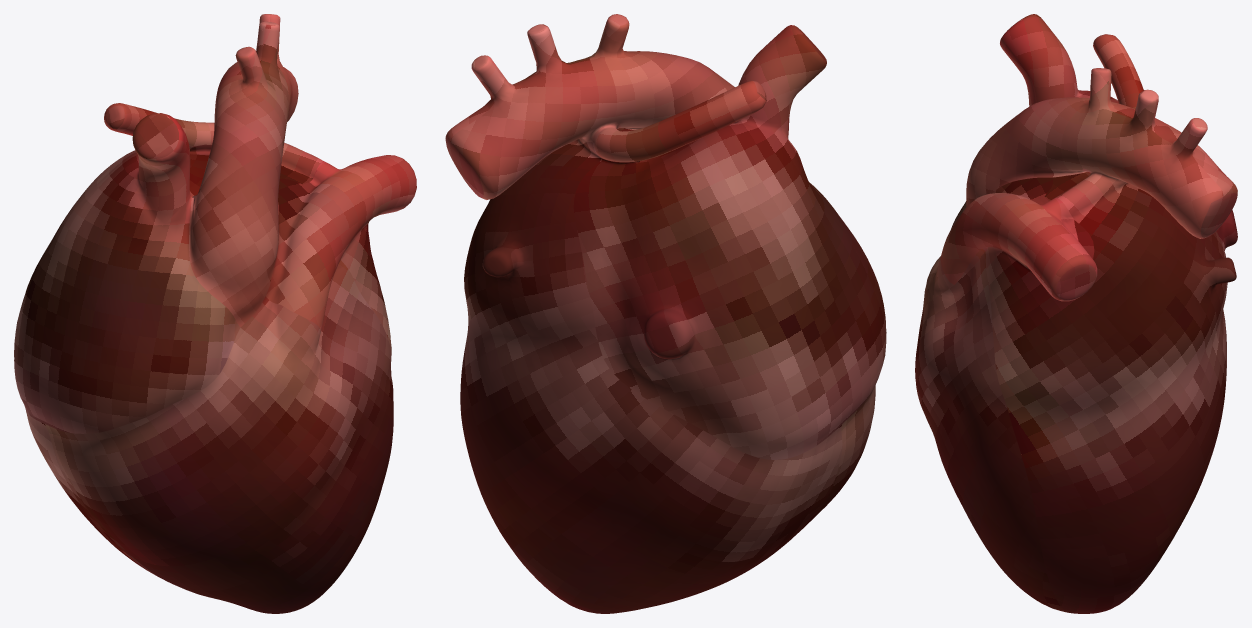
The model's file is heart.glb.
3 views of the same model, side by side, from view 1: azimuth 30°, elevation 25°; view 2: azimuth 150°, elevation 25°; view 3: azimuth 270°, elevation 25° (orthographic). The views are drawn at different scales.
Parts seen in each view (by area): view 1: hart:ZBrush_defualt_group; view 2: hart:ZBrush_defualt_group; view 3: hart:ZBrush_defualt_group.
Boxes of the visible parts, x1,y1,x2,y2 form: hart:ZBrush_defualt_group: (14,14,416,613); hart:ZBrush_defualt_group: (445,14,886,613); hart:ZBrush_defualt_group: (915,14,1237,613).
Size of the model in its own units: 1.08 by 1.6 by 0.8801.
Materials: 1 (1 with a texture image).
